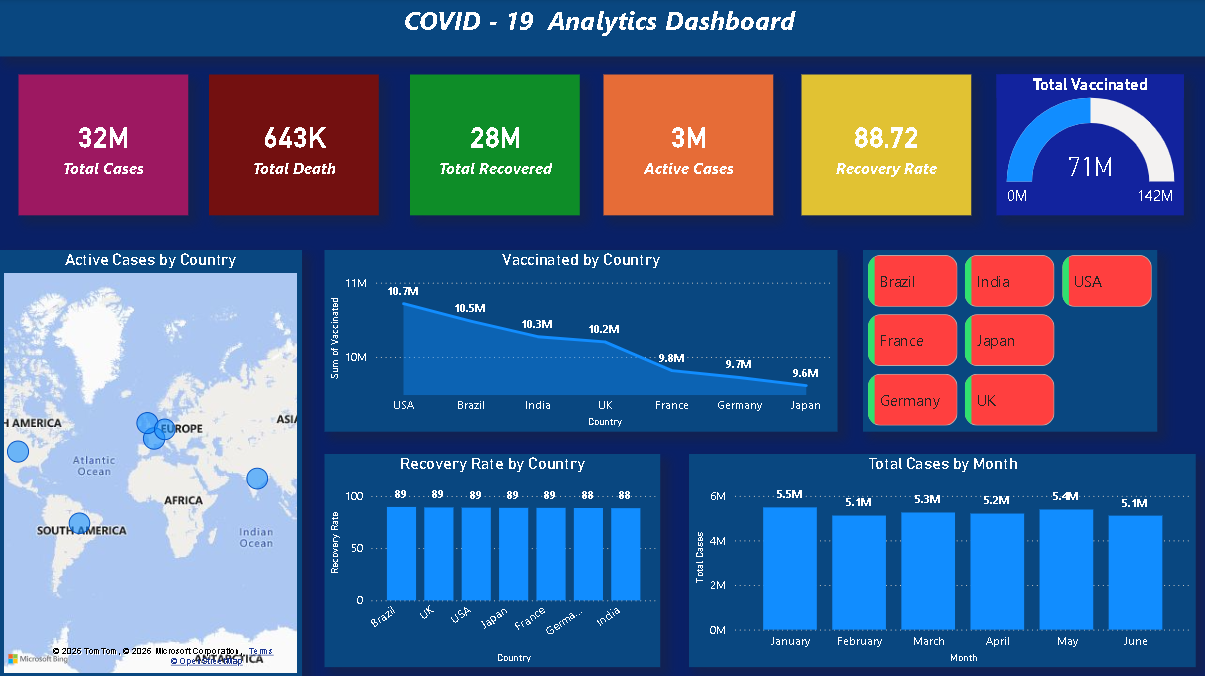

This screenshot's page, from the dashboard's own definition file:
{"tool":"powerbi","page":{"name":"Page 1","canvas":[1280,720],"ordinal":0},"visuals":[{"type":"textbox","box":[0,0,1280.4,62],"z":0},{"type":"card","fields":{"Values":["Covid 19 Data.Total Cases"]},"box":[20.7,81.1,179.7,149.5],"z":1000},{"type":"card","fields":{"Values":["Covid 19 Data.Total Death"]},"box":[222.7,81.1,179.7,149.5],"z":2000},{"type":"card","fields":{"Values":["Covid 19 Data.Total Recovered"]},"box":[435.8,81.1,179.7,149.5],"z":3000},{"type":"card","fields":{"Values":["Covid 19 Data.Active Cases"]},"box":[641,81.1,179.7,149.5],"z":4000},{"type":"card","fields":{"Values":["Covid 19 Data.Recovery Rate"]},"box":[851,81.1,179.7,149.5],"z":5000},{"type":"map","fields":{"Category":["Covid 19 Data.Country"],"Size":["Covid 19 Data.Active Cases"]},"box":[0,267.2,321.3,453.3],"z":6000},{"type":"lineChart","title":" Vaccinated by Country","fields":{"Category":["Covid 19 Data.Country"],"Y":["Sum(Covid 19 Data.Vaccinated)"]},"box":[345.2,267.2,544,192.5],"z":7000},{"type":"clusteredColumnChart","fields":{"Category":["Covid 19 Data.Country"],"Y":["Covid 19 Data.Recovery Rate"]},"box":[345.2,483.5,356.3,225.9],"z":8000},{"type":"columnChart","fields":{"Category":["Covid 19 Data.Date.Variation.Date Hierarchy.Month","Covid 19 Data.Date.Variation.Date Hierarchy.Day"],"Y":["Covid 19 Data.Total Cases"]},"box":[731.7,483.5,537.6,225.9],"z":9000},{"type":"advancedSlicerVisual","fields":{"Values":["Covid 19 Data.Country"]},"box":[916.2,267.2,311.8,192.5],"z":10000},{"type":"gauge","fields":{"Y":["Covid 19 Data.Total Vaccinated"]},"box":[1057.8,81.1,198.8,149.5],"z":10001}]}

Visuals, with their boxes in screenshot pixels (x1, y1, x2, y2), scaled from the page's 1280x720 canvas onto the 1205x676 screenshot:
textbox: bbox=(0, 0, 1204, 58)
card - Covid 19 Data.Total Cases: bbox=(19, 76, 189, 217)
card - Covid 19 Data.Total Death: bbox=(210, 76, 379, 217)
card - Covid 19 Data.Total Recovered: bbox=(410, 76, 579, 217)
card - Covid 19 Data.Active Cases: bbox=(603, 76, 773, 217)
card - Covid 19 Data.Recovery Rate: bbox=(801, 76, 970, 217)
map - Covid 19 Data.Country x Covid 19 Data.Active Cases: bbox=(0, 251, 302, 675)
" Vaccinated by Country" lineChart: bbox=(325, 251, 837, 432)
clusteredColumnChart - Covid 19 Data.Country x Covid 19 Data.Recovery Rate: bbox=(325, 454, 660, 666)
columnChart - Covid 19 Data.Date.Variation.Date Hierarchy.Month x Covid 19 Data.Date.Variation.Date Hierarchy.Day: bbox=(689, 454, 1195, 666)
advancedSlicerVisual - Covid 19 Data.Country: bbox=(863, 251, 1156, 432)
gauge - Covid 19 Data.Total Vaccinated: bbox=(996, 76, 1183, 217)
